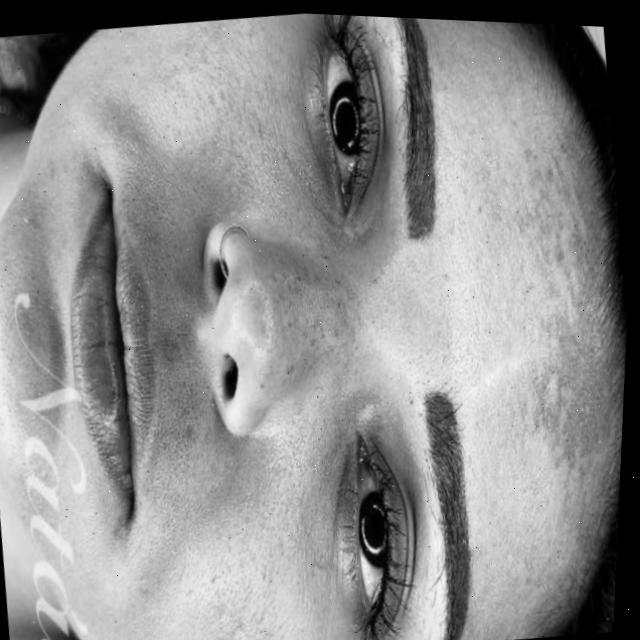Melasma: (491, 165, 634, 464), (250, 273, 355, 377)
